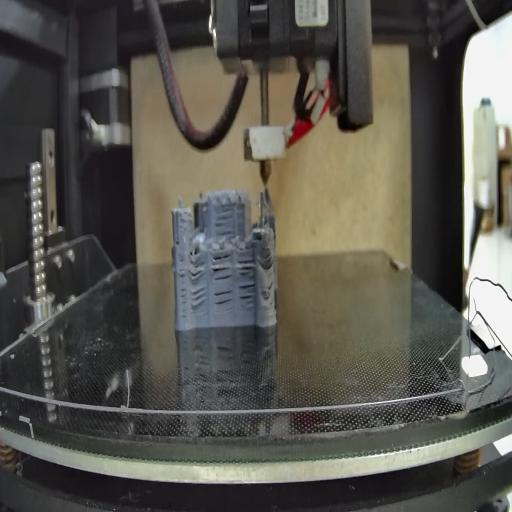cracks: (176, 258, 188, 322), (214, 205, 234, 235), (212, 254, 233, 282), (188, 255, 206, 284), (190, 287, 208, 311), (238, 283, 256, 306), (214, 288, 234, 307), (238, 258, 256, 279), (260, 251, 276, 266), (266, 279, 274, 293), (174, 232, 180, 246)
